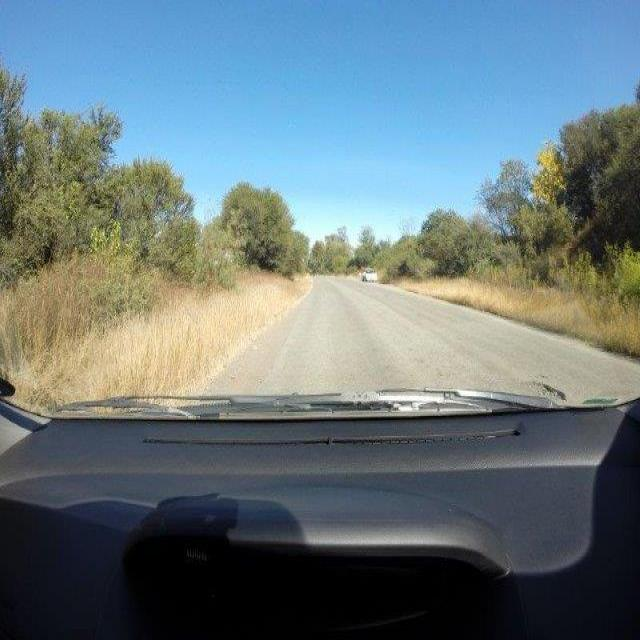lubang: (525, 368, 570, 406)
